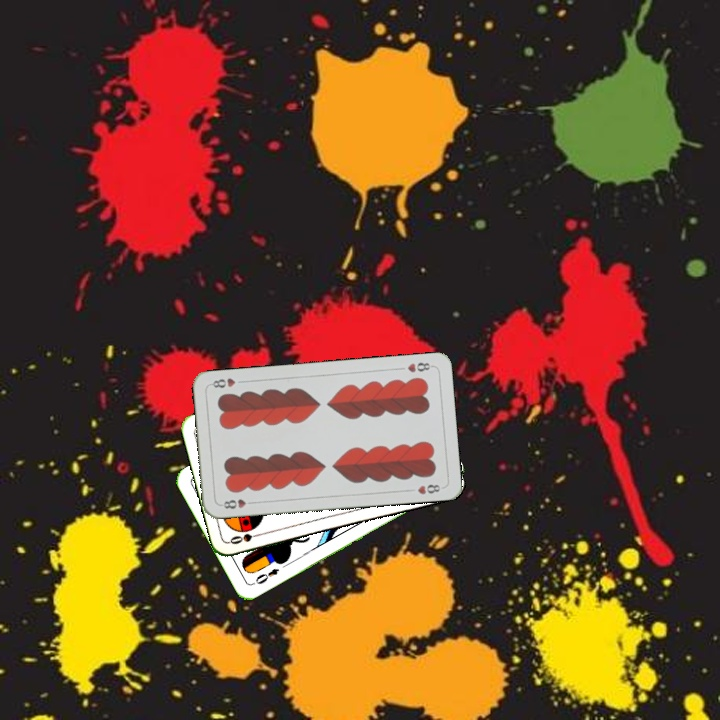EO: (248, 564, 282, 587)
H8: (217, 495, 257, 512), (403, 358, 436, 375)
SO: (226, 529, 266, 547)
